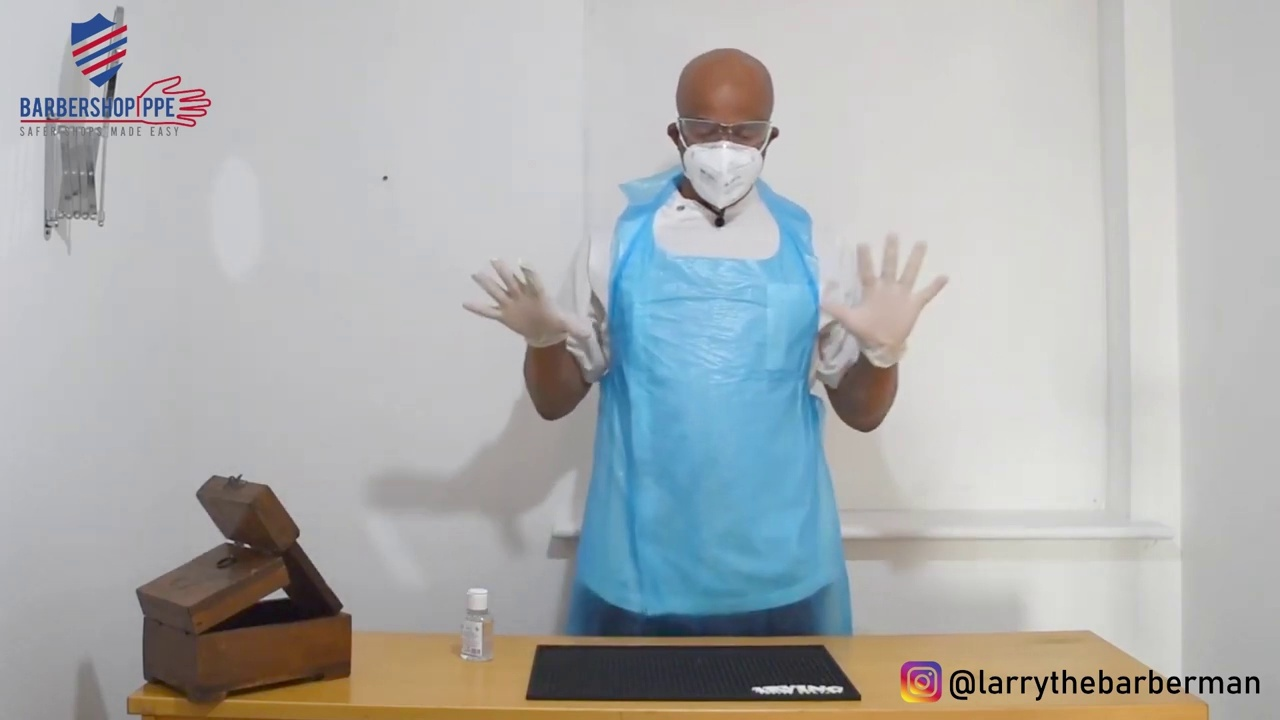Apron: (575, 173, 826, 655)
Glove: (814, 220, 953, 350), (461, 227, 588, 346)
Mask: (657, 135, 819, 212)
No_Hairnet: (664, 35, 801, 89)
